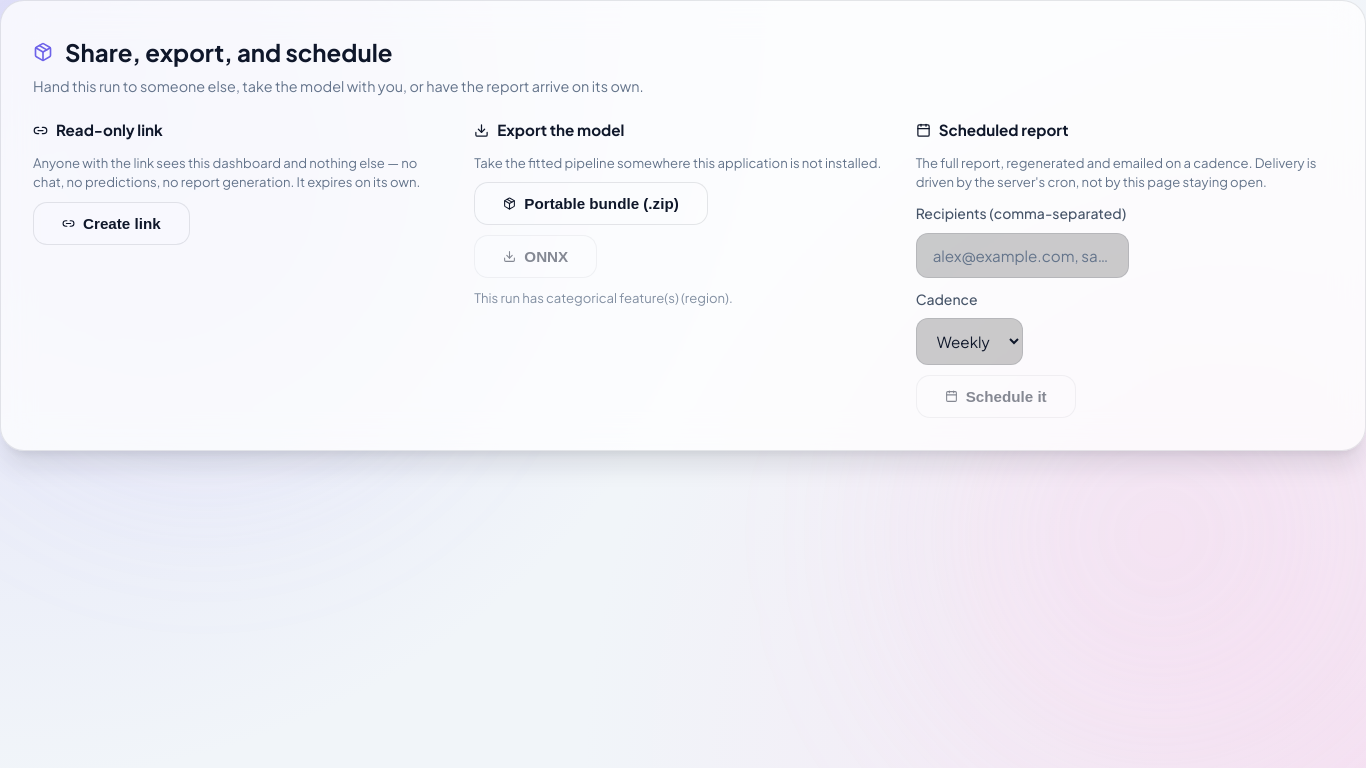
Test: share links › shows the created link once, with a warning that it is not shown again
Click the button "Create link".
click(111, 224)  # box x1=33 y1=202 x2=190 y2=245
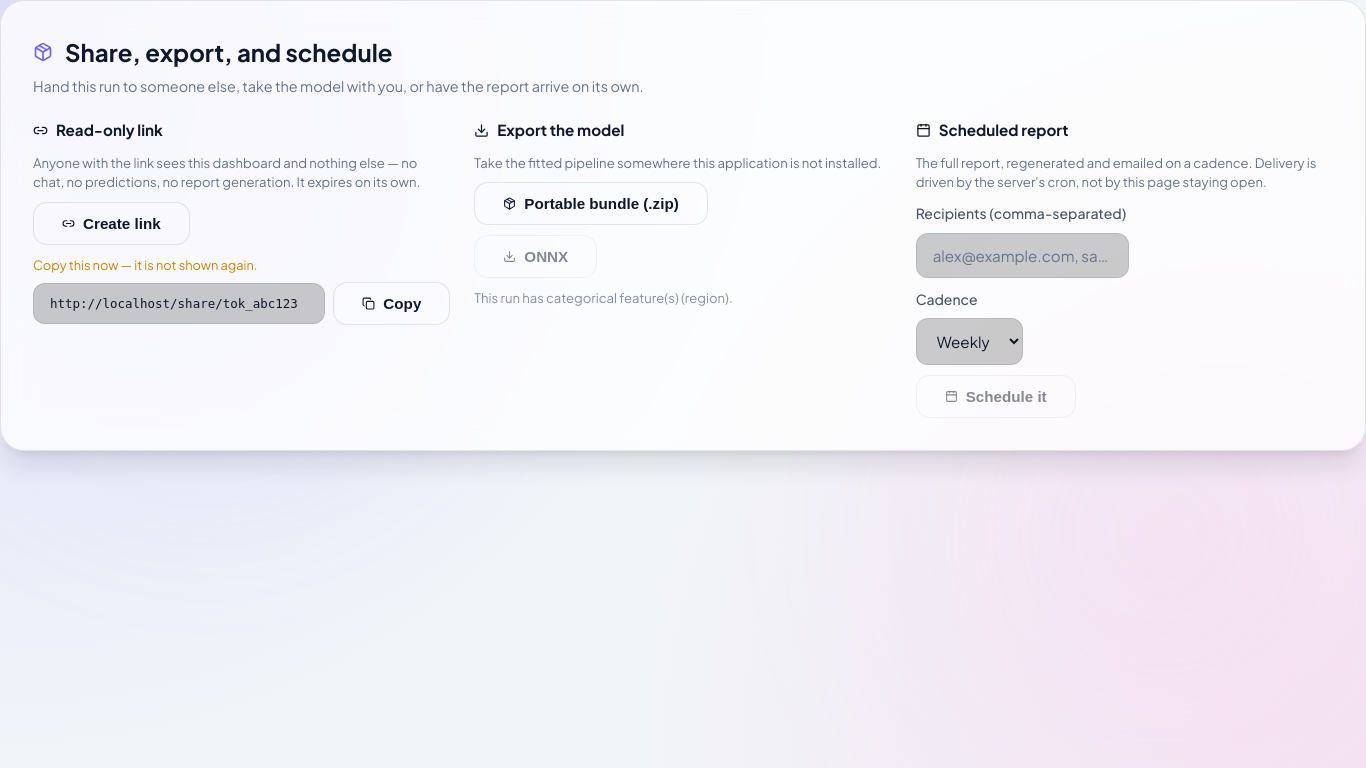
Result: the field showing "tok_abc123" is shown at x1=33 y1=283 x2=325 y2=324
Result: the text "Copy this now — it is not shown again." is shown at x1=33 y1=257 x2=258 y2=273
